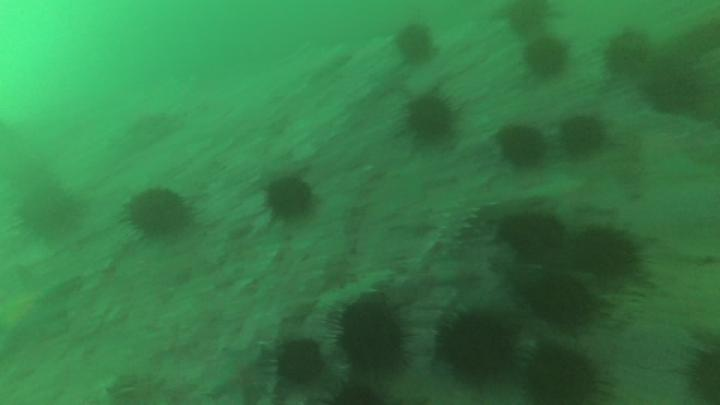echinus: (439, 316, 515, 382), (341, 304, 407, 366), (525, 350, 597, 405), (529, 277, 599, 325), (574, 227, 639, 278), (126, 189, 192, 238), (643, 54, 696, 111), (17, 188, 76, 234), (499, 215, 560, 258), (405, 98, 456, 144), (277, 342, 326, 383), (498, 126, 547, 167), (605, 31, 649, 75), (266, 177, 313, 218), (527, 35, 569, 75), (560, 114, 603, 153), (508, 1, 551, 37), (396, 27, 433, 61), (334, 385, 382, 405)
holothurian: (419, 191, 491, 261), (318, 270, 393, 314)
